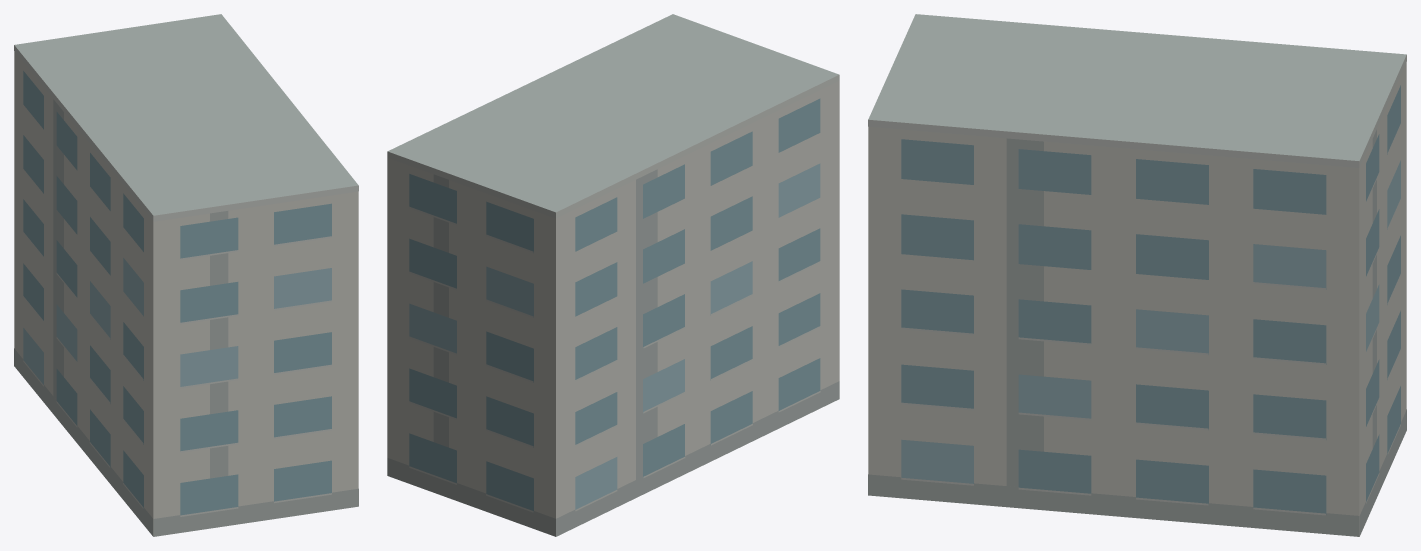
The model's file is survey-upis-32881837.glb.
The picture shows the model from 3 angles, left to right: view 1: azimuth 30°, elevation 25°; view 2: azimuth 150°, elevation 25°; view 3: azimuth 270°, elevation 25°; orthographic projection. The views are drawn at different scales.
Visible parts, largest first — view 1: survey-upis-32881837.tmp; view 2: survey-upis-32881837.tmp; view 3: survey-upis-32881837.tmp.
Part boxes in pixels (x1,y1,x2,y2): survey-upis-32881837.tmp: (14,14,358,536); survey-upis-32881837.tmp: (387,14,839,536); survey-upis-32881837.tmp: (868,14,1406,536).
Size of the model in its own units: 10.93 by 13 by 16.9.
